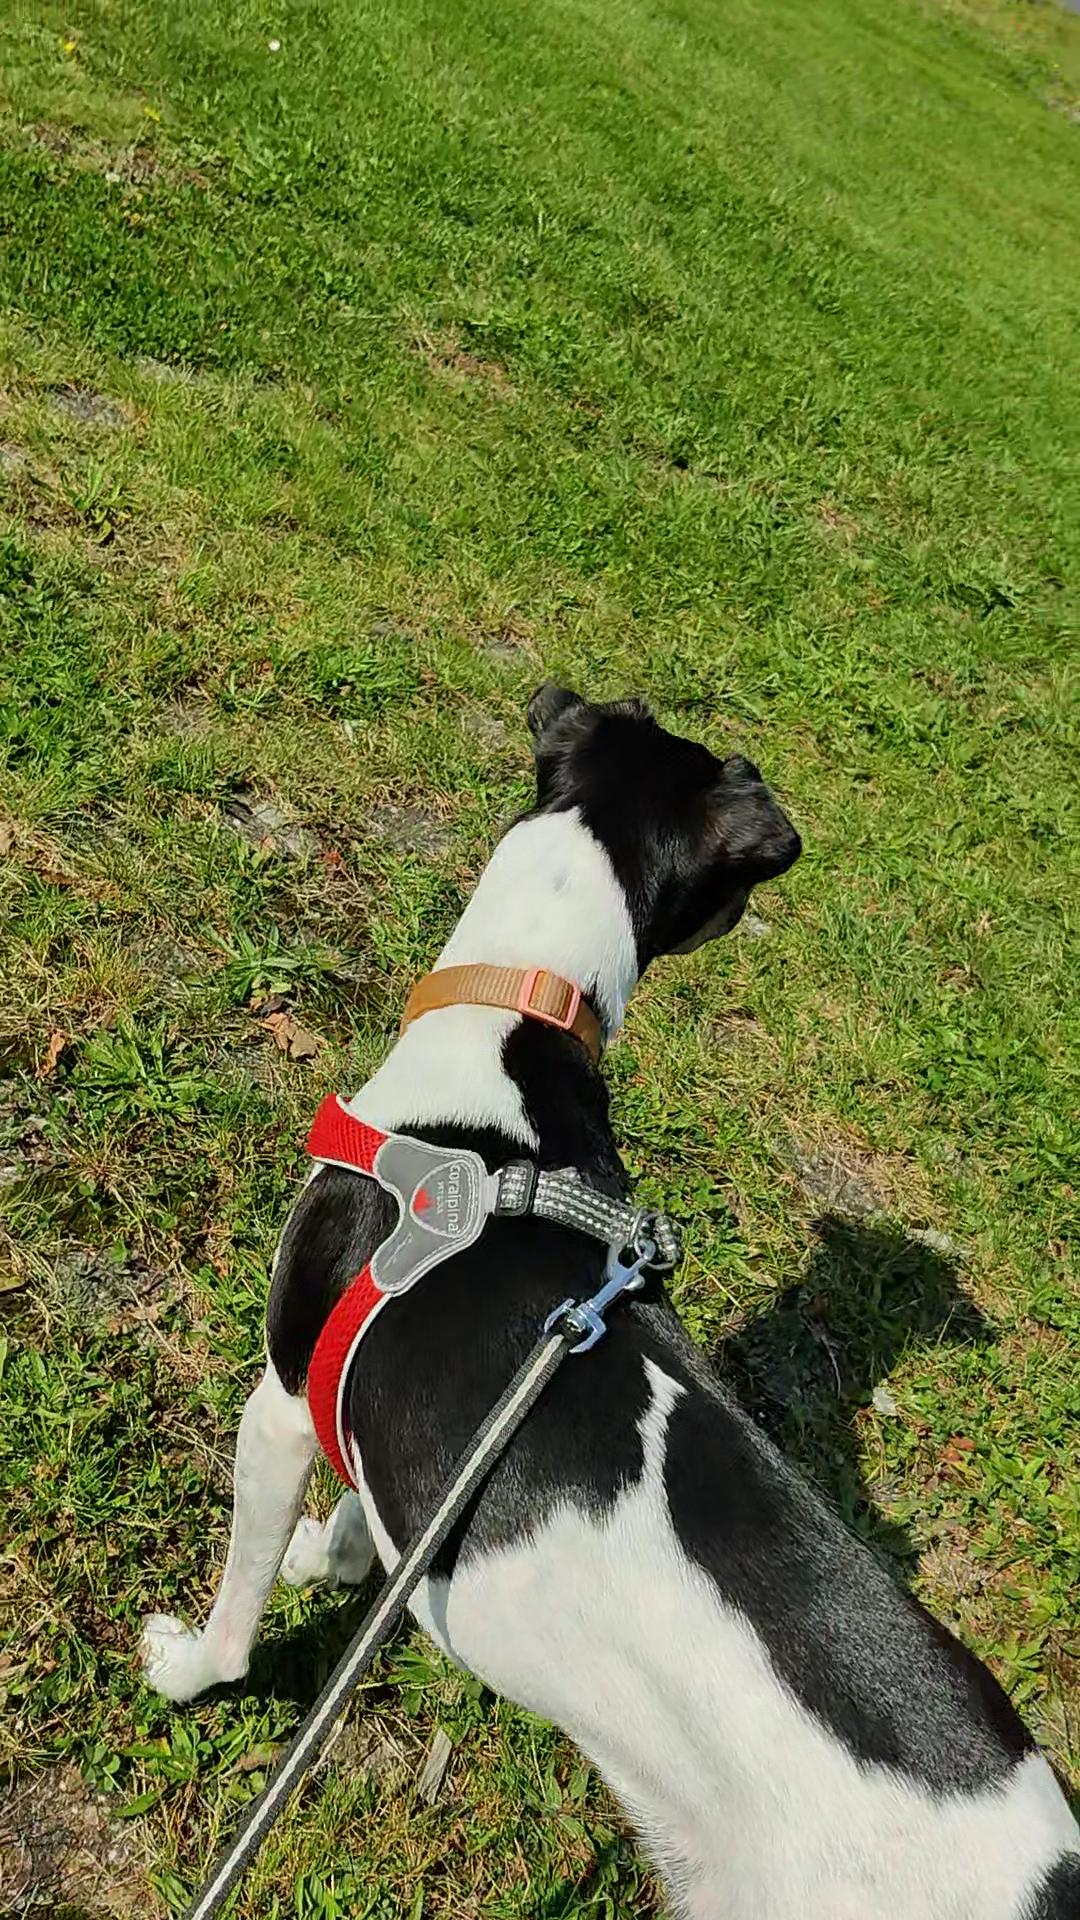Dog: (113, 662, 1079, 1919)
